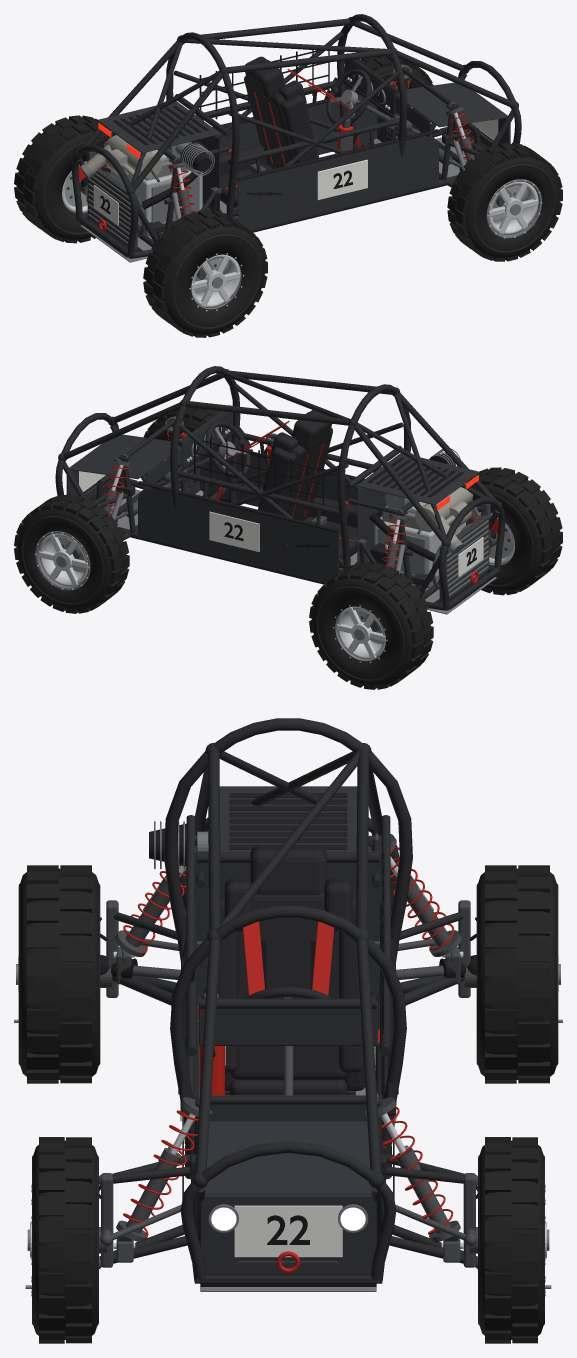
Rendered from buggy-22.glb.
3 renders of one model, top to bottom at view 1: azimuth 30°, elevation 25°; view 2: azimuth 150°, elevation 25°; view 3: azimuth 270°, elevation 25°, orthographic. The views are drawn at different scales.
Visible parts, largest first — view 1: WHL_RR_Tyre, BODY_SidePanel_R, WHL_FR_Tyre, WHL_RL_Tyre, BODY_NoseHood, BODY_RearDeck, BODY_SidePanel_L, CAGE_MainHoop, SEAT_Back, CAGE_FrontHoop, ENG_Radiator, CHS_RearBumper (+40 smaller); view 2: WHL_RL_Tyre, BODY_SidePanel_L, WHL_FL_Tyre, WHL_RR_Tyre, BODY_NoseHood, BODY_RearDeck, BODY_SidePanel_R, CAGE_FrontHoop, CAGE_MainHoop, SEAT_Back, CHS_RearBumper, ENG_Radiator (+40 smaller); view 3: WHL_RL_Tyre, WHL_RR_Tyre, WHL_FL_Tyre, WHL_FR_Tyre, BODY_NoseHood, SEAT_Back, CAGE_MainHoop, CAGE_FrontHoop, BODY_Dashboard, BODY_NumberPlate_Front, CHS_FrontBumper, BODY_RearBulkhead (+41 smaller).
Part boxes in pixels (x1,y1,x2,y2): WHL_RR_Tyre: (143,210,267,337); BODY_SidePanel_R: (238,136,438,229); WHL_FR_Tyre: (447,142,562,261); WHL_RL_Tyre: (14,115,110,243); BODY_NoseHood: (395,82,507,127); BODY_RearDeck: (97,101,220,153); BODY_SidePanel_L: (216,94,377,154); CAGE_MainHoop: (166,32,239,217); SEAT_Back: (246,79,292,168); CAGE_FrontHoop: (337,14,407,157); ENG_Radiator: (87,169,137,249); CHS_RearBumper: (72,145,138,256); WHL_RL_Tyre: (309,562,433,689); BODY_SidePanel_L: (138,488,338,581); WHL_FL_Tyre: (14,494,129,613); WHL_RR_Tyre: (466,467,562,595); BODY_NoseHood: (70,434,181,479); BODY_RearDeck: (356,453,479,505); BODY_SidePanel_R: (200,446,360,506); CAGE_FrontHoop: (170,366,240,510); CAGE_MainHoop: (337,384,410,569); SEAT_Back: (284,431,330,520); CHS_RearBumper: (438,497,505,608); ENG_Radiator: (439,515,489,601); WHL_RL_Tyre: (478,865,556,1083); WHL_RR_Tyre: (20,865,98,1083); WHL_FL_Tyre: (479,1137,543,1343); WHL_FR_Tyre: (33,1137,97,1343); BODY_NoseHood: (205,1121,371,1194); SEAT_Back: (230,892,346,1080); CAGE_MainHoop: (164,718,412,995); CAGE_FrontHoop: (170,905,406,1179); BODY_Dashboard: (199,1002,377,1045); BODY_NumberPlate_Front: (234,1205,342,1257); CHS_FrontBumper: (180,1141,396,1283); BODY_RearBulkhead: (195,851,381,998).
Size of the model in its own units: 2.84 by 1.53 by 1.87.
